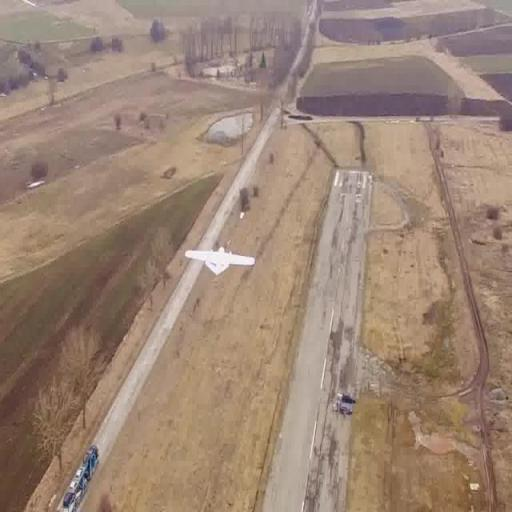uav: (182, 236, 260, 285)
